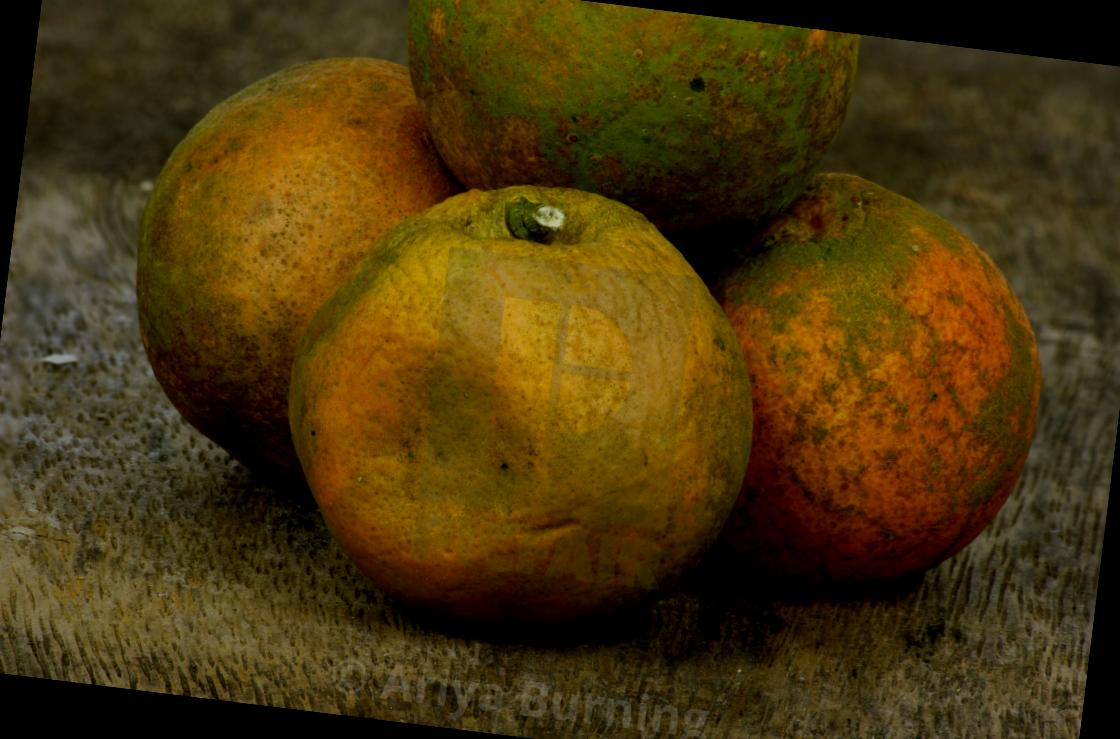Orange Rotten: (241, 141, 802, 676), (668, 134, 1098, 646), (104, 14, 494, 518), (371, 0, 876, 243)
